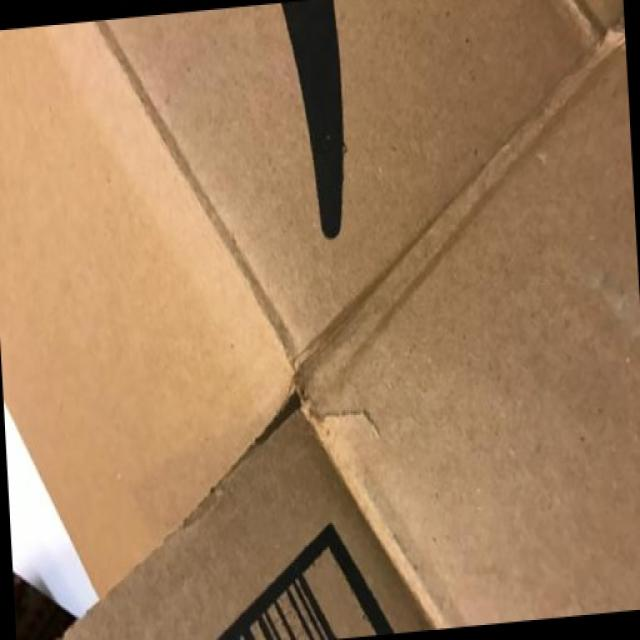carton: (106, 17, 443, 565)
